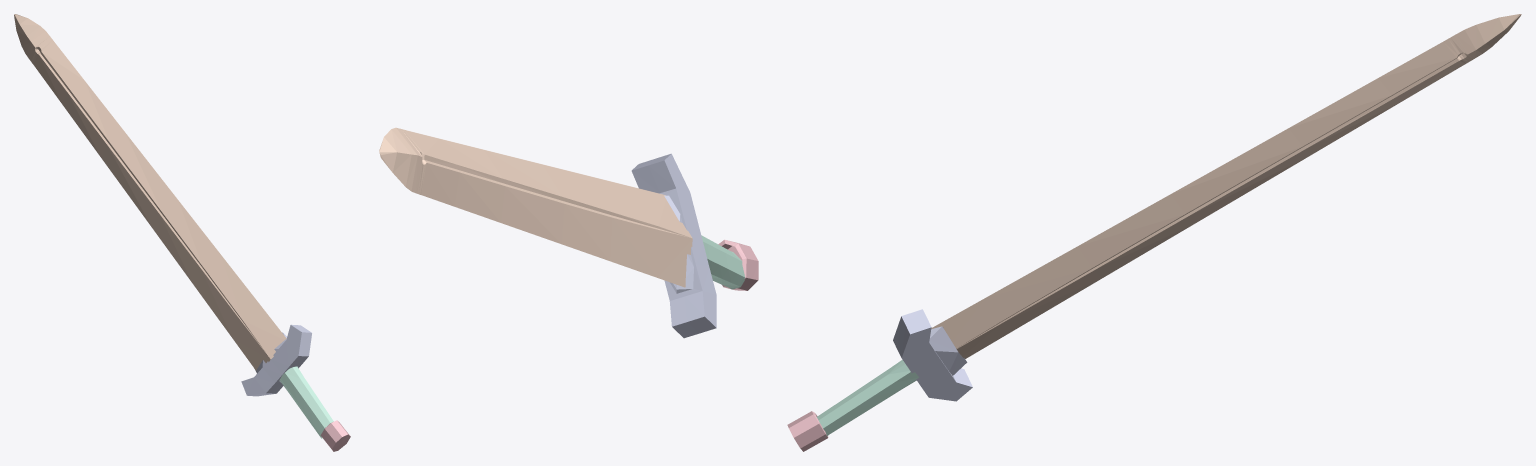
File: view_assembly_-1_colored.glb
3 renders of one model, left to right at view 1: azimuth 30°, elevation 25°; view 2: azimuth 150°, elevation 25°; view 3: azimuth 270°, elevation 25°, orthographic. The views are drawn at different scales.
Parts seen in each view (by area): view 1: world; view 2: world; view 3: world.
Part boxes in pixels (box(x1,y1,x2,y2)): world: box(14, 14, 350, 451); world: box(379, 127, 758, 338); world: box(787, 14, 1521, 451).
Bounding box in the file's own units: 0.1865 × 0.5555 × 0.9537.
